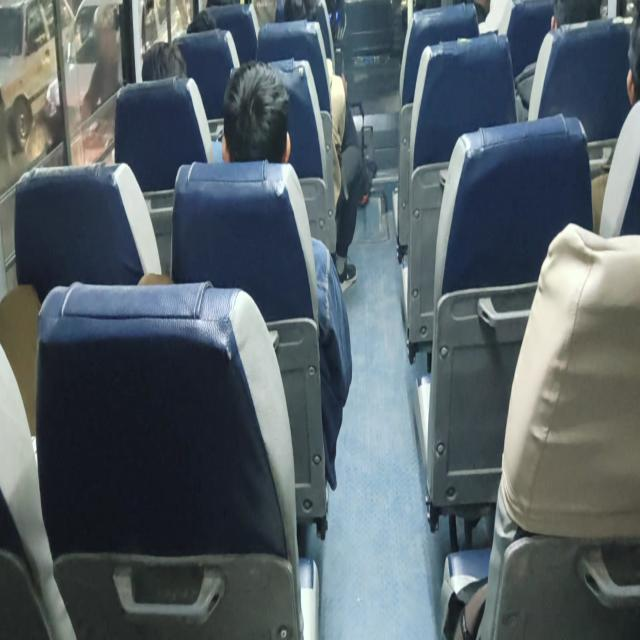person: (222, 63, 296, 171), (610, 8, 640, 100), (266, 0, 326, 39), (543, 5, 599, 42), (133, 43, 175, 92), (186, 14, 222, 48)
